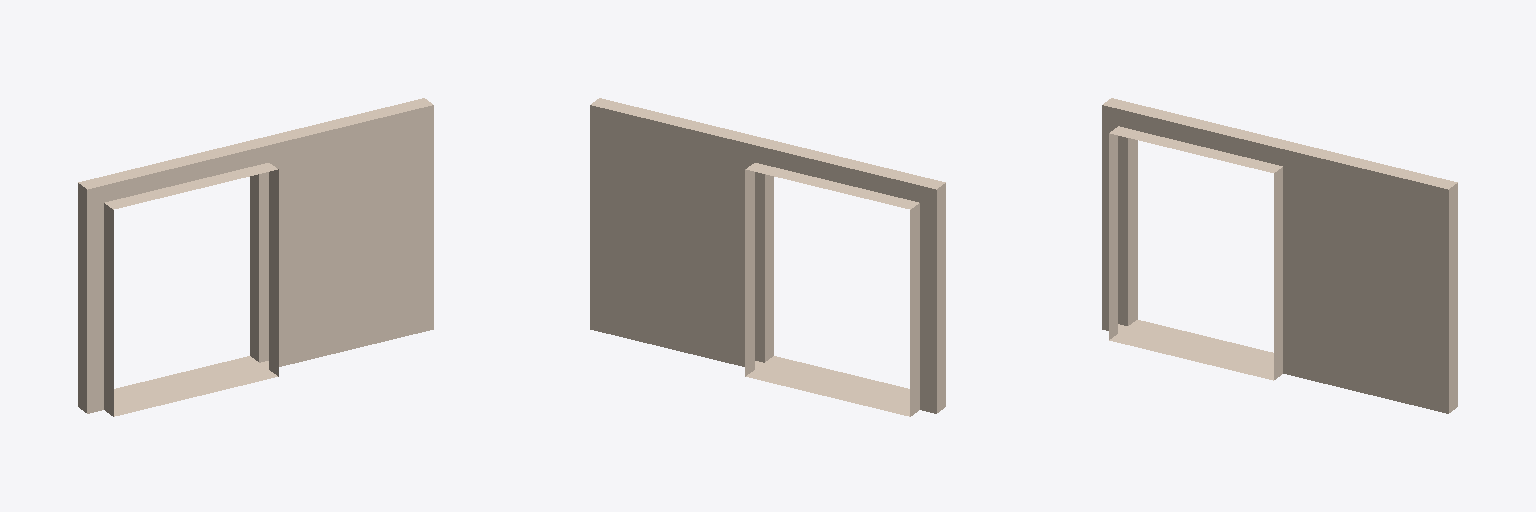
Rendered from Cheyenne-Door-Frame-1.obj.
The picture shows the model from 3 angles: view 1: azimuth 30°, elevation 25°; view 2: azimuth 150°, elevation 25°; view 3: azimuth 330°, elevation 25°; orthographic projection.
Parts seen in each view (by area): view 1: Cheyenne-Door-Frame-1; view 2: Cheyenne-Door-Frame-1; view 3: Cheyenne-Door-Frame-1.
Part boxes in pixels (x1,y1,x2,y2): Cheyenne-Door-Frame-1: (78, 98, 433, 416); Cheyenne-Door-Frame-1: (590, 98, 945, 416); Cheyenne-Door-Frame-1: (1102, 98, 1457, 413).
Size of the model in its own units: 5.25 by 3.25 by 0.75.